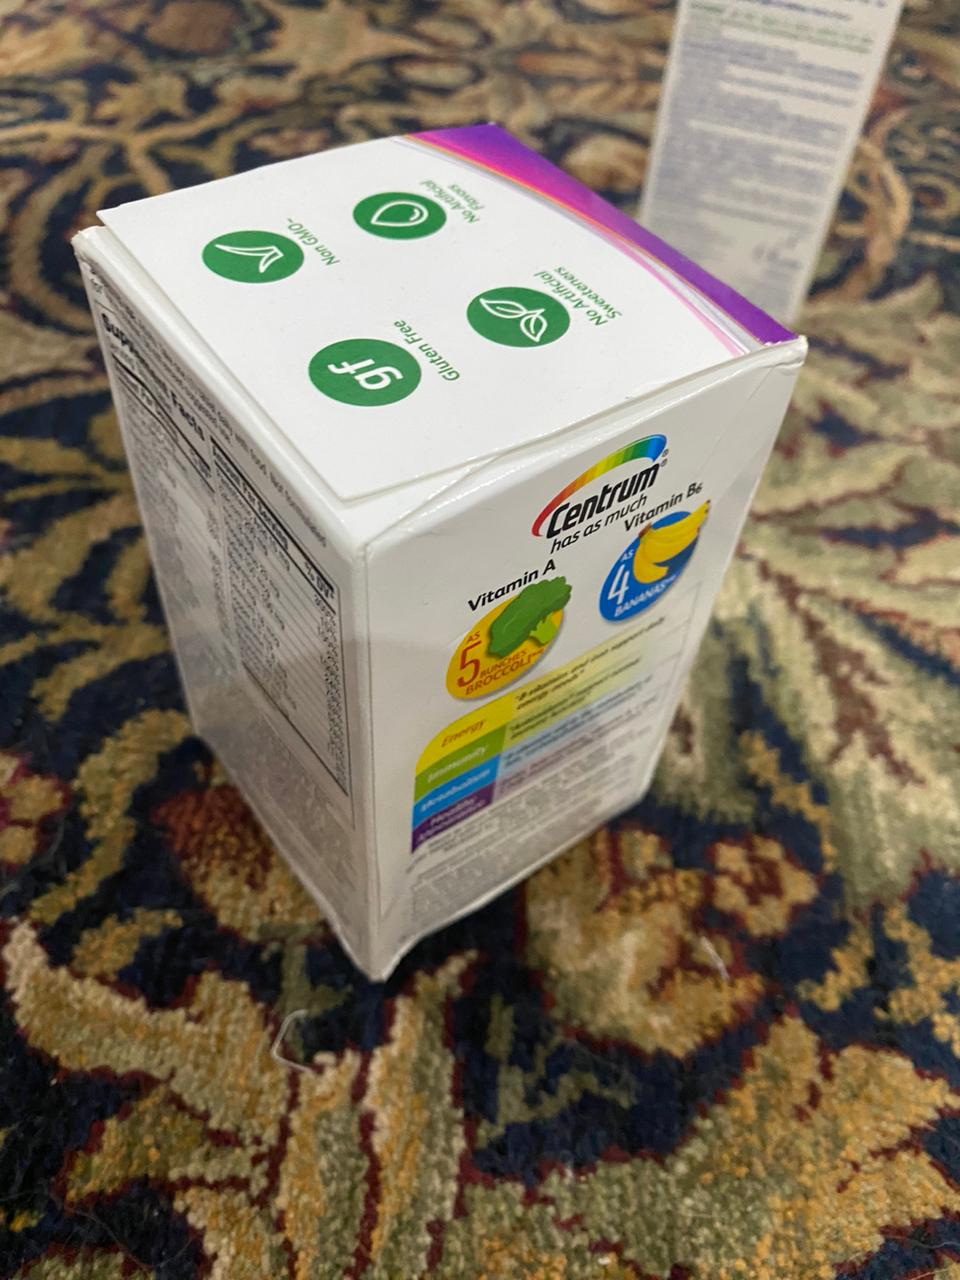Centrum: (68, 119, 812, 978)
Physiomer: (636, 1, 916, 335)
